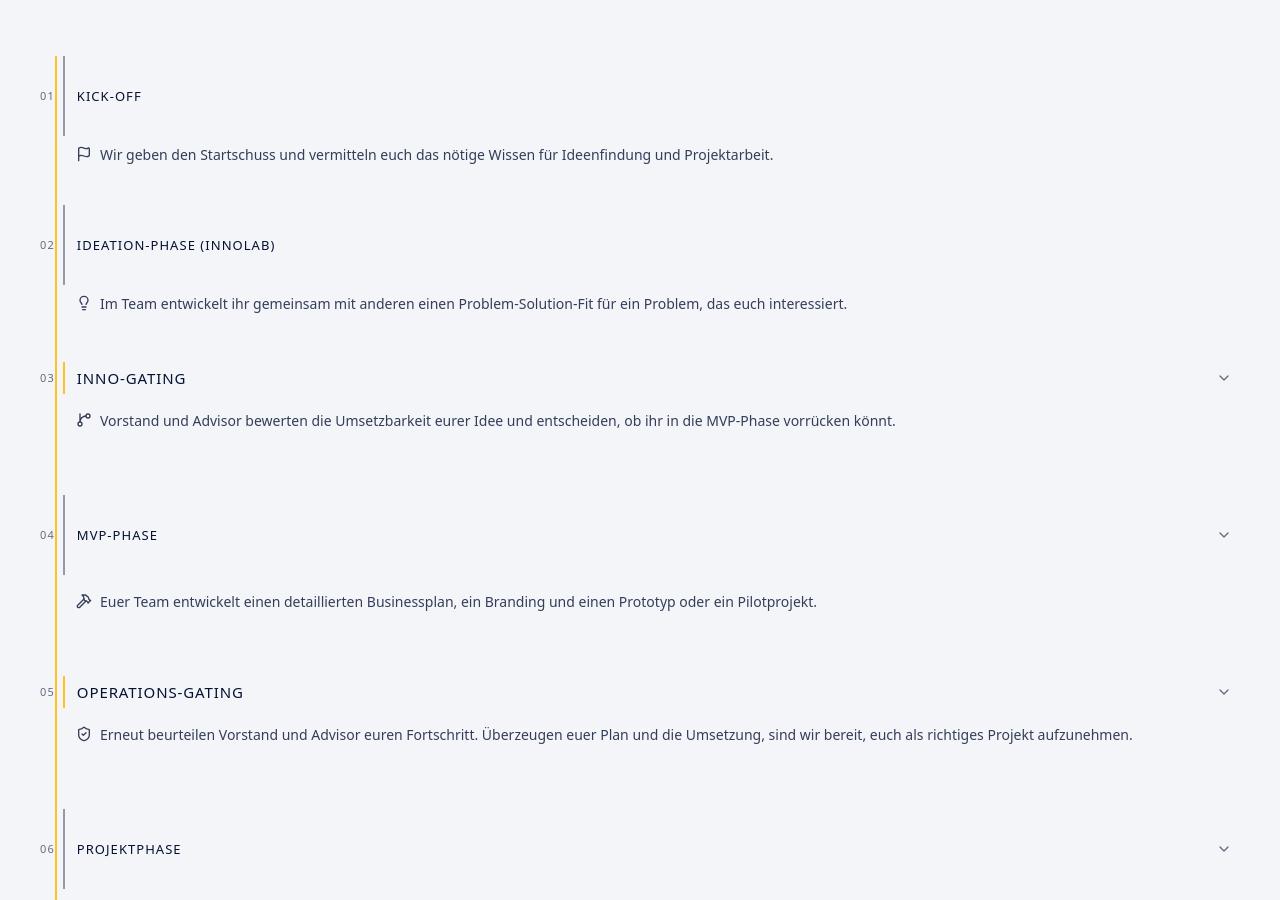
it: ProcessTimeline › lets a manually opened station close again
Click the button "04 MVP-Phase": (108, 546) left=40, top=487, right=1240, bottom=583
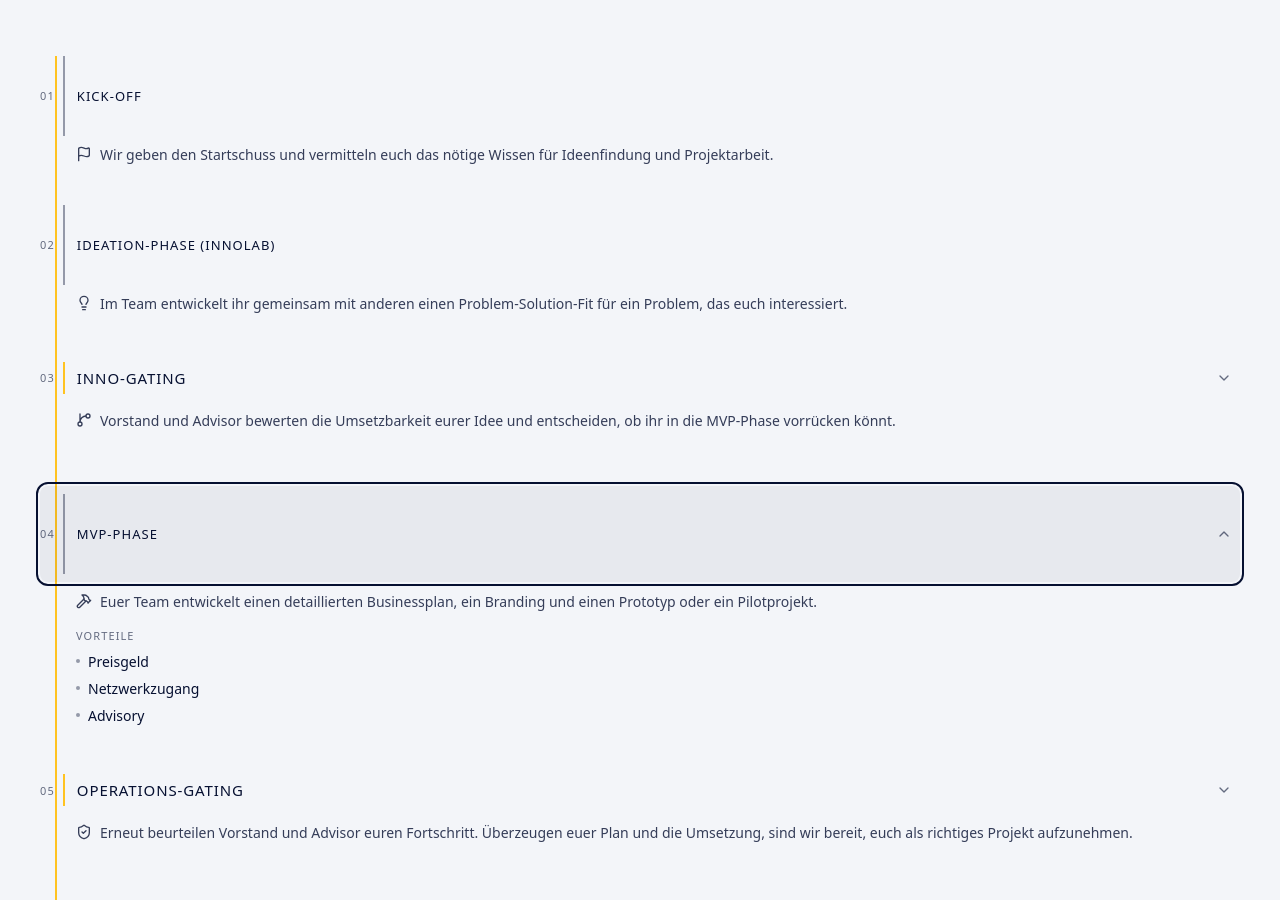
Expected: the button "04 MVP-Phase" is expanded
Click the button "04 MVP-Phase": (108, 546) left=40, top=486, right=1240, bottom=582
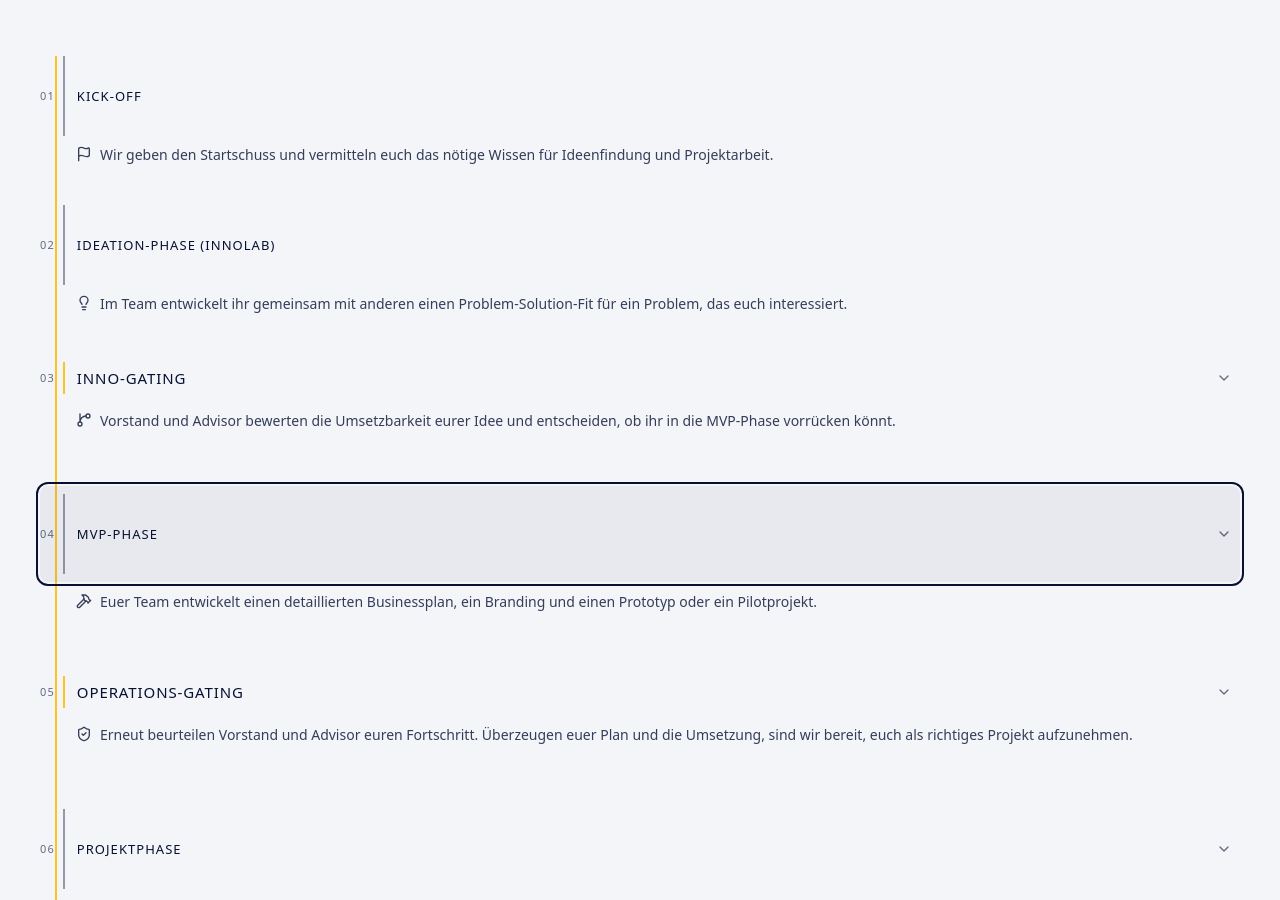
Expected: the button "04 MVP-Phase" is collapsed, left=40, top=486, right=1240, bottom=582
